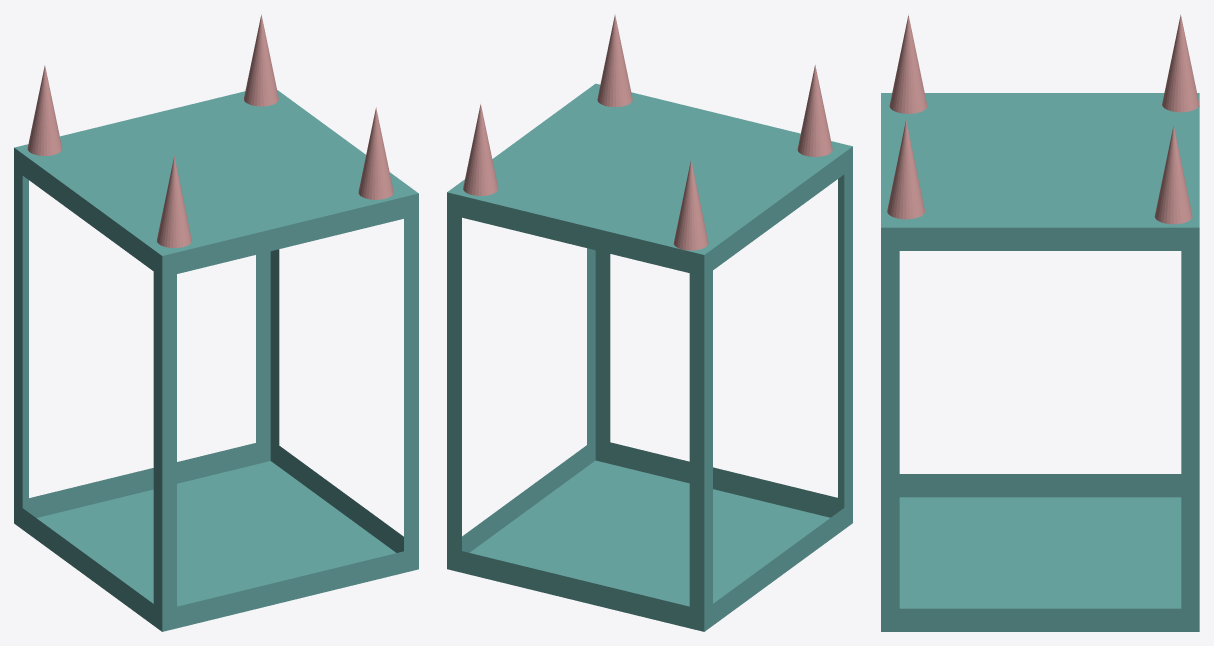
The model's file is farol.fbx.
The picture shows the model from 3 angles, left to right: view 1: azimuth 30°, elevation 25°; view 2: azimuth 150°, elevation 25°; view 3: azimuth 270°, elevation 25°; orthographic projection. The views are drawn at different scales.
Parts seen in each view (by area): view 1: Lamp, Puntas_Superiores; view 2: Lamp, Puntas_Superiores; view 3: Lamp, Puntas_Superiores.
Part boxes in pixels (left/top/right/bottom): Lamp: left=14, top=90, right=418, bottom=631; Puntas_Superiores: left=27, top=14, right=393, bottom=247; Lamp: left=447, top=83, right=852, bottom=631; Puntas_Superiores: left=463, top=14, right=832, bottom=251; Lamp: left=881, top=93, right=1199, bottom=631; Puntas_Superiores: left=887, top=14, right=1199, bottom=224.
Bounding box in the file's own units: 50 × 85.92 × 50.02.
